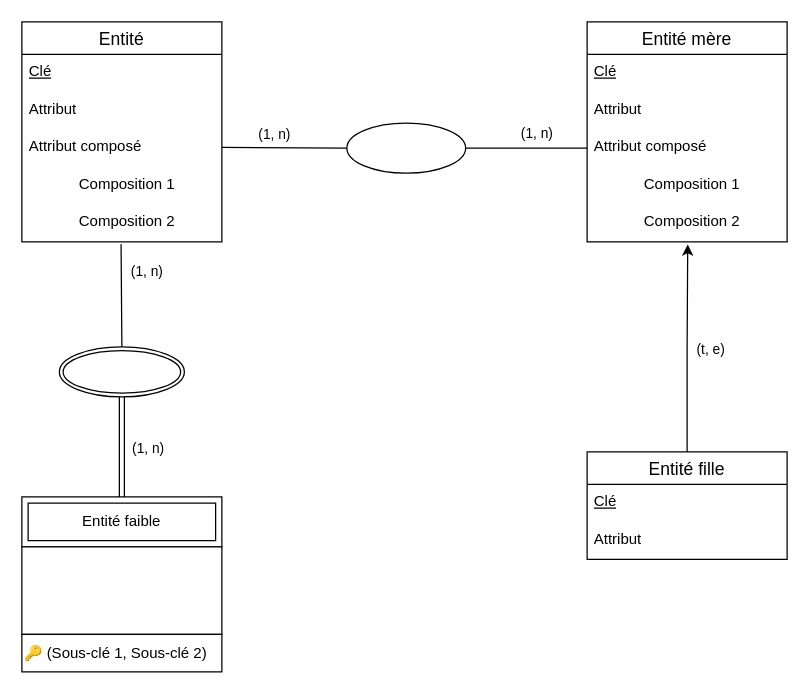
This 810x694 diagram has some shape labels left out. The shapes that lost their labels are listed below. From the top down, each one's centre as x and y in pixels, then its label:
At (406,147): "Relation".
At (121,371): "Association faible".
At (121,590): "Attribut 1 Attribut 2".
